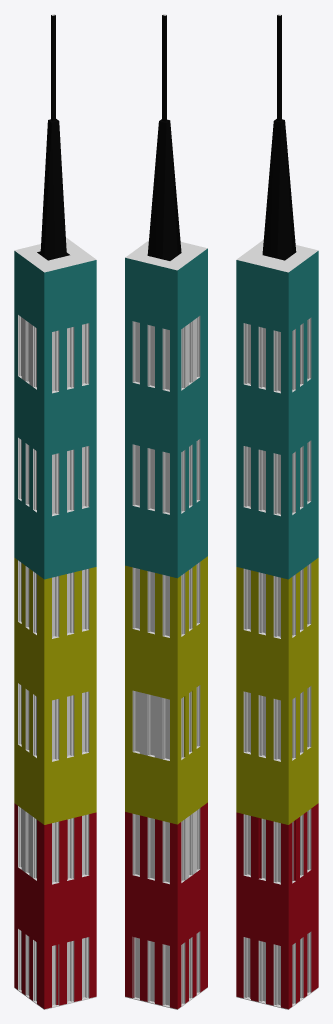
The model's file is the_trafficlight.fbx.
3 renders of one model, left to right at view 1: azimuth 30°, elevation 25°; view 2: azimuth 150°, elevation 25°; view 3: azimuth 330°, elevation 25°, orthographic.
Visible parts, largest first — view 1: the_trafficlight; view 2: the_trafficlight; view 3: the_trafficlight.
Boxes of the visible parts, box(x1,y1,x2,y2) form: the_trafficlight: box(14, 14, 96, 1009); the_trafficlight: box(125, 14, 207, 1009); the_trafficlight: box(236, 14, 318, 1009).
Bounding box in the file's own units: 160 × 2849 × 160.
